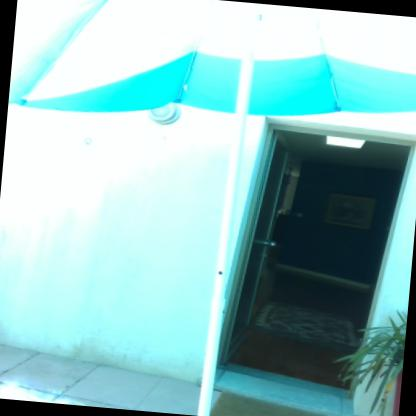open: (210, 106, 415, 415)
